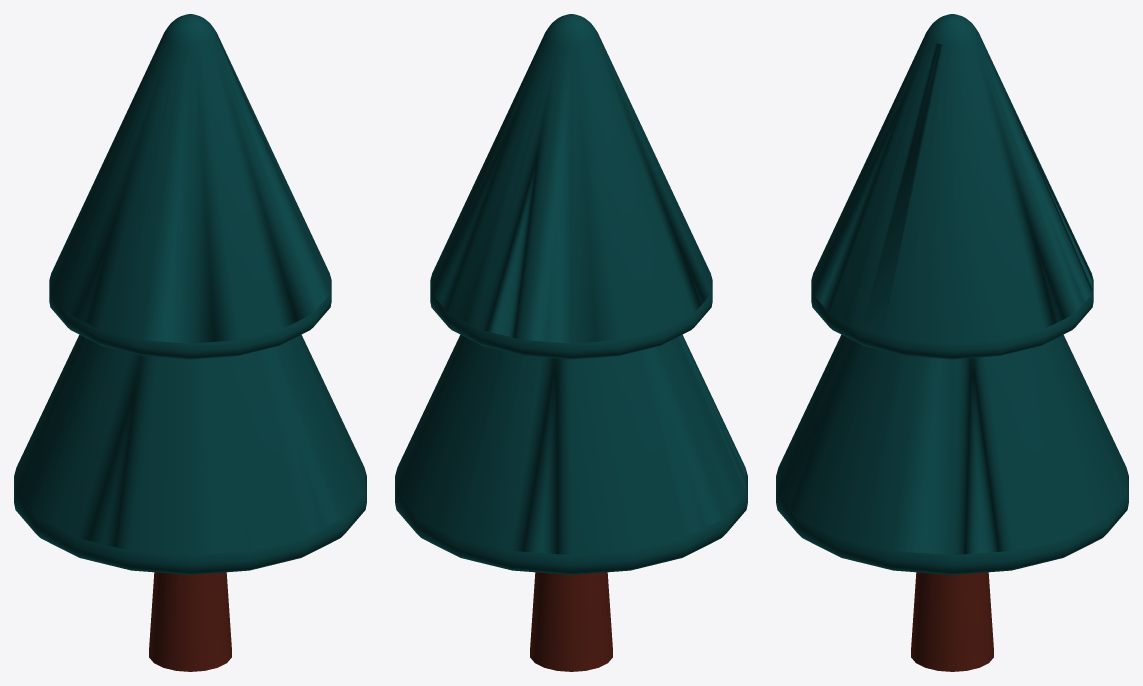
File: tree.obj
3 views of the same model, side by side, from view 1: azimuth 30°, elevation 25°; view 2: azimuth 150°, elevation 25°; view 3: azimuth 270°, elevation 25° (orthographic).
Parts seen in each view (by area): view 1: tree_forest_Cylinder.067; view 2: tree_forest_Cylinder.067; view 3: tree_forest_Cylinder.067.
Part boxes in pixels (x1,y1,x2,y2): tree_forest_Cylinder.067: (14, 14, 366, 671); tree_forest_Cylinder.067: (395, 14, 747, 671); tree_forest_Cylinder.067: (776, 14, 1128, 671).
Bounding box in the file's own units: 1.53 × 3 × 1.5.
